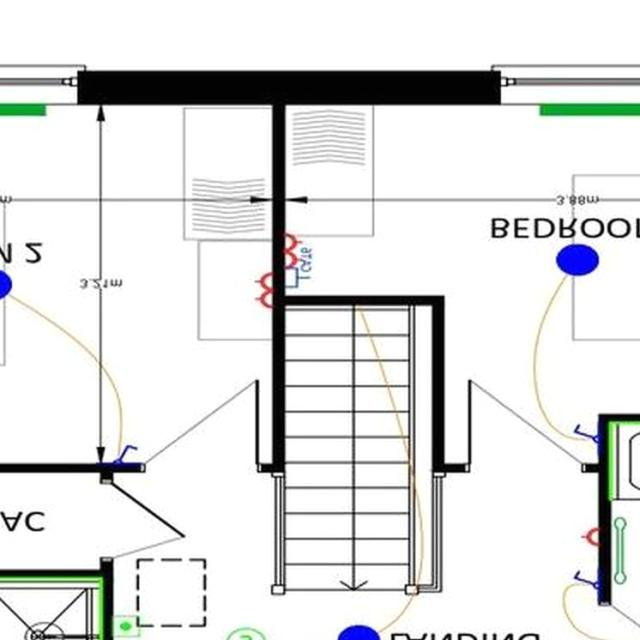Cat 6 Data Socket: (283, 248, 312, 289)
Double Socket: (253, 272, 272, 310), (283, 234, 304, 268)
Full Height Tiling: (0, 581, 103, 640), (608, 422, 640, 500)
Light Switch: (112, 445, 138, 464), (574, 424, 598, 444), (573, 572, 597, 591)
Low Energy Pendant Light: (558, 244, 598, 276), (337, 625, 381, 640), (0, 270, 11, 301)
Mains Wired Smoke Detector: (227, 629, 265, 640)
Programmable Room Thermostat: (112, 616, 139, 639)
Radiator: (539, 105, 640, 116), (0, 104, 44, 116)
Single Socket: (581, 528, 597, 547)
